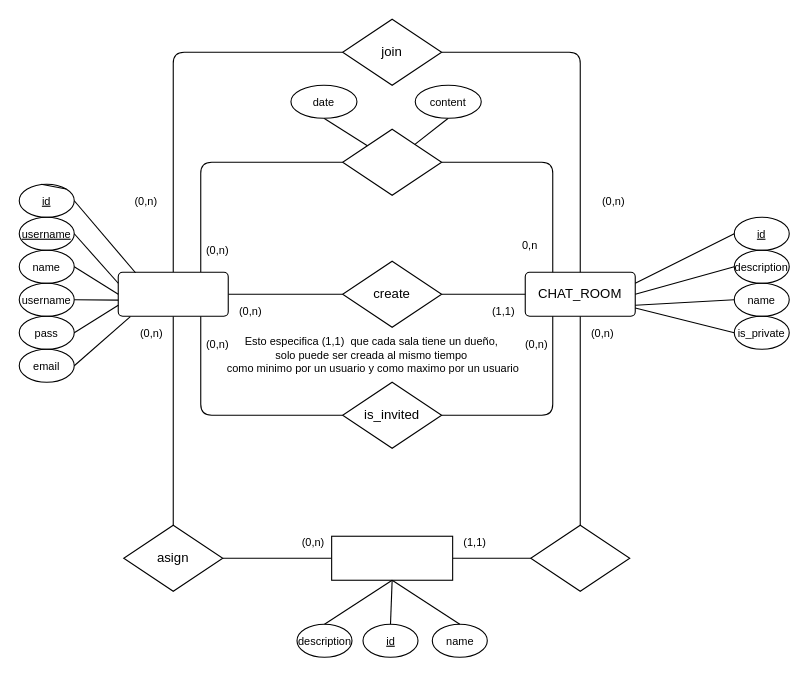
The diagram is 809 pixels wide and 677 high, and some of its shapes have lost their labels. The box of each missing label's shape, as (x1, y1, x2, y2) in pixels:
has: (530, 524, 630, 591)
ROLE: (331, 535, 453, 580)
send message: (342, 128, 442, 195)
USER: (117, 271, 228, 316)
